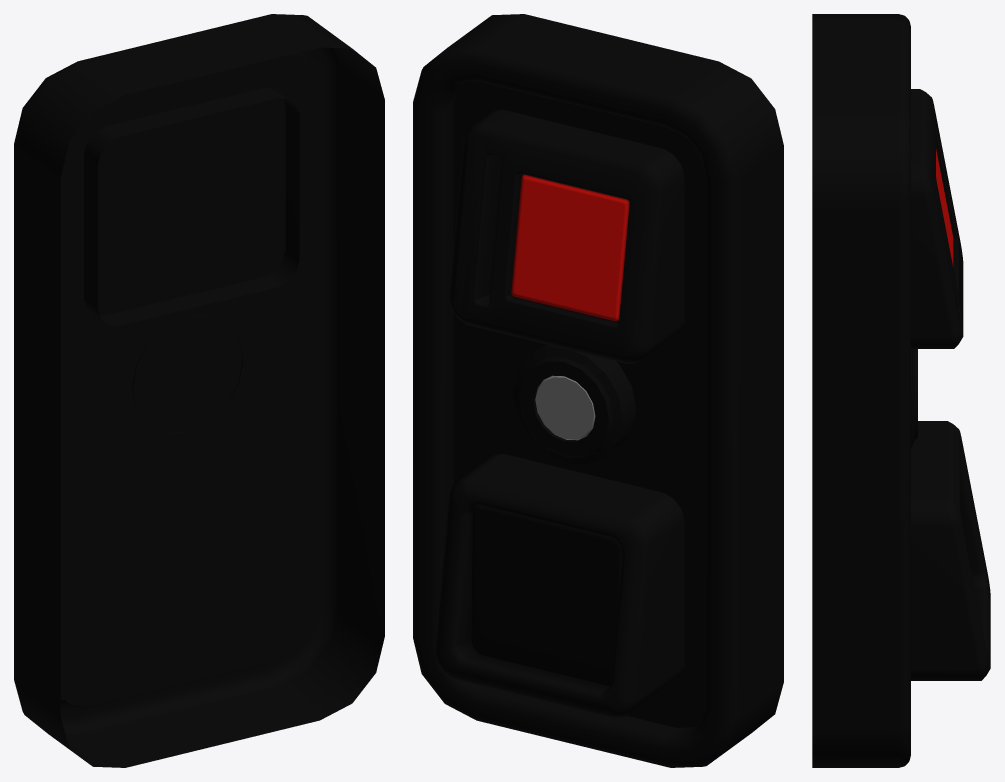
The model's file is coinslot.fbx.
3 renders of one model, left to right at view 1: azimuth 30°, elevation 25°; view 2: azimuth 150°, elevation 25°; view 3: azimuth 270°, elevation 25°, orthographic. The views are drawn at different scales.
Parts seen in each view (by area): view 1: pCube5; view 2: pCube5; view 3: pCube5.
Part boxes in pixels (<box>): pCube5: <box>14,14,384,767</box>; pCube5: <box>413,14,783,767</box>; pCube5: <box>812,14,990,767</box>.
Size of the model in its own units: 8.42 by 16.71 by 4.16.
